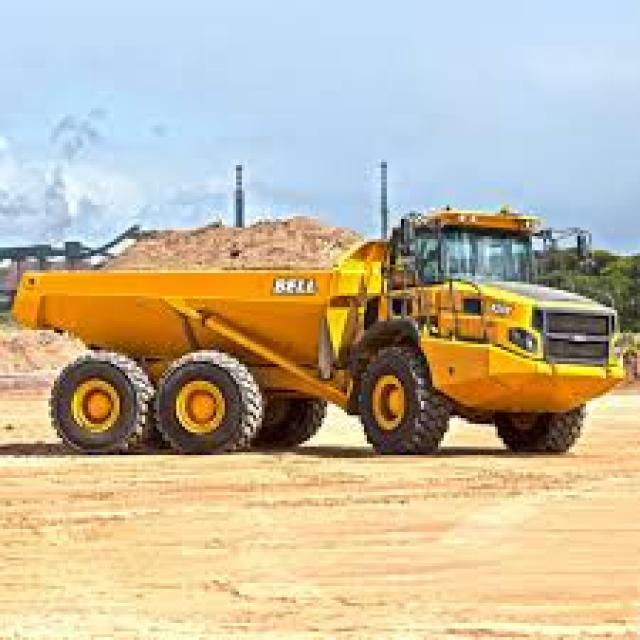dump_truck: (22, 170, 628, 518)
